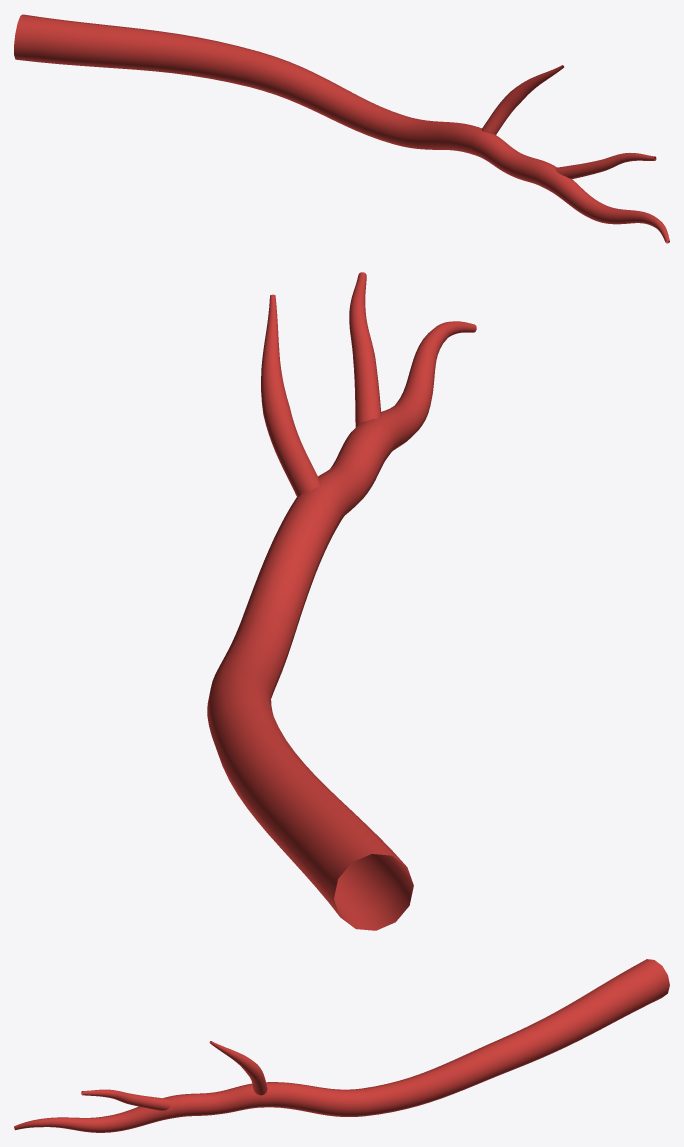
3 views of the same model, one above another, from view 1: azimuth 30°, elevation 25°; view 2: azimuth 150°, elevation 25°; view 3: azimuth 270°, elevation 25° (orthographic). The views are drawn at different scales.
Parts seen in each view (by area): view 1: 左侧颞深后动脉; view 2: 左侧颞深后动脉; view 3: 左侧颞深后动脉.
Boxes of the visible parts, left/top/right/bottom form: 左侧颞深后动脉: left=14, top=14, right=669, bottom=243; 左侧颞深后动脉: left=207, top=272, right=476, bottom=930; 左侧颞深后动脉: left=14, top=959, right=669, bottom=1132.
Bounding box in the file's own units: 0.0372 × 0.0128 × 0.0691.
